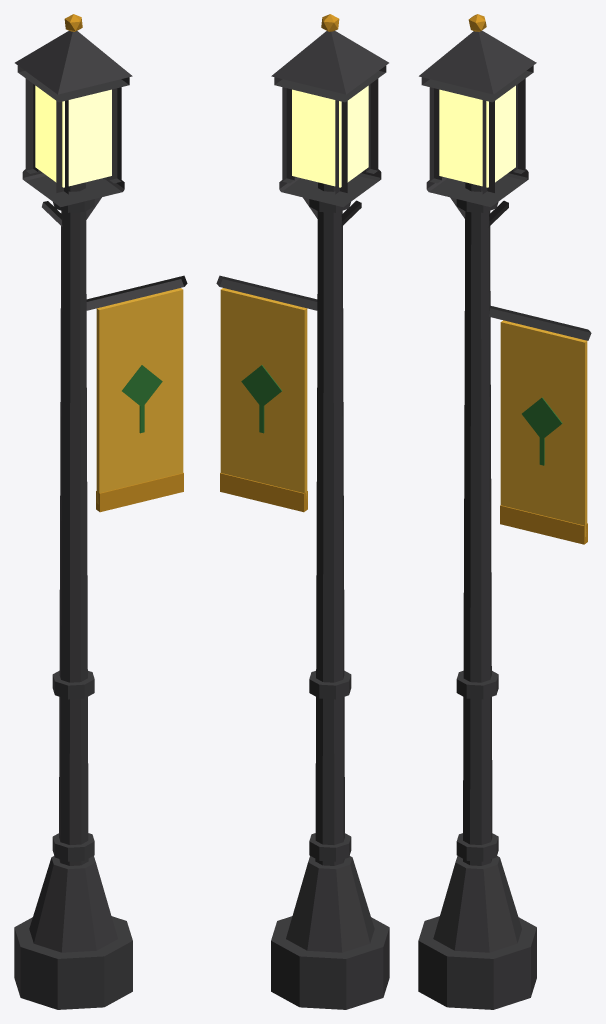
The model's file is lamp_post.glb.
3 views of the same model, side by side, from view 1: azimuth 30°, elevation 25°; view 2: azimuth 150°, elevation 25°; view 3: azimuth 330°, elevation 25° (orthographic).
Parts seen in each view (by area): view 1: body, light; view 2: body, light; view 3: body, light.
Boxes of the visible parts, x1,y1,x2,y2 form: body: (14, 14, 187, 1009); light: (35, 85, 111, 187); body: (216, 14, 389, 1009); light: (292, 85, 368, 187); body: (418, 14, 591, 1009); light: (439, 85, 515, 187).
Bounding box in the file's own units: 0.74 × 4.19 × 0.48.
